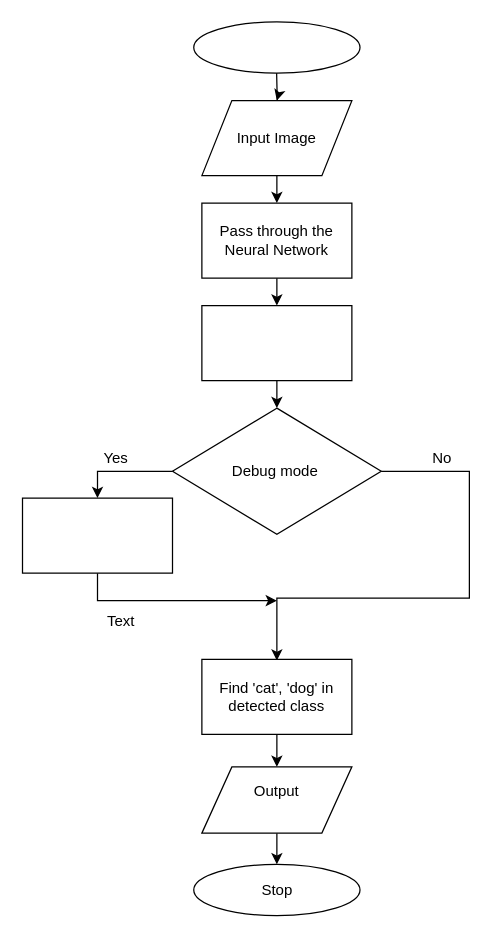
The diagram is 501 pixels wide and 938 high, and some of its shapes have lost their labels. Here are the shapes that lost their labels. From the top down, the box of each, then its label:
(192, 21, 360, 73): Start
(201, 304, 352, 381): Classify the object and detect its location
(21, 497, 172, 573): Write the confidence and mark the location on the frame
